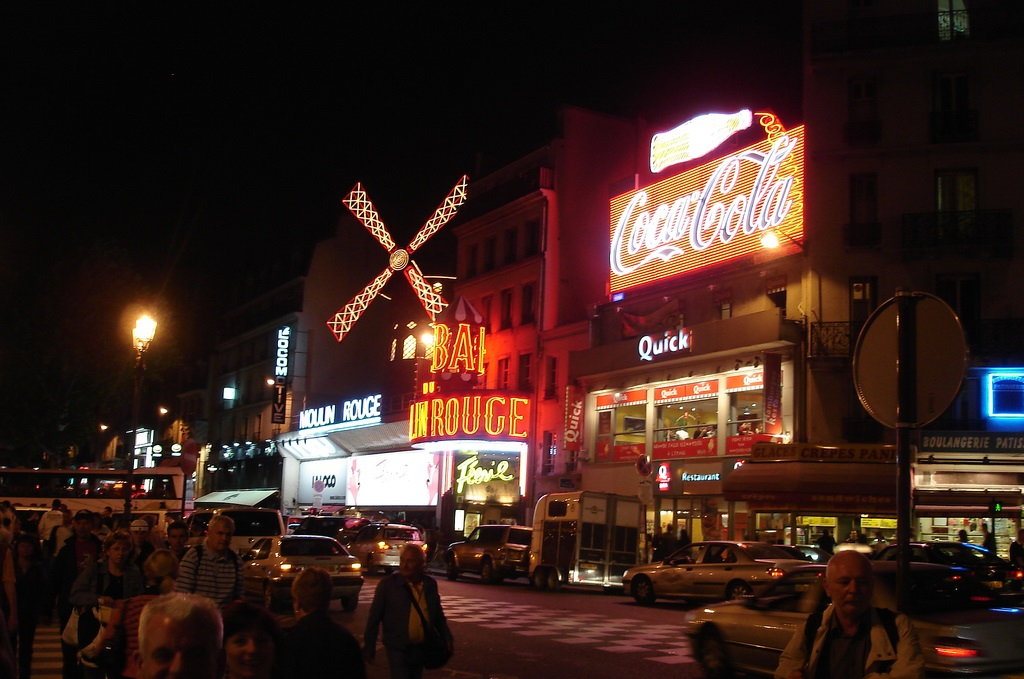car: (444, 520, 537, 584)
